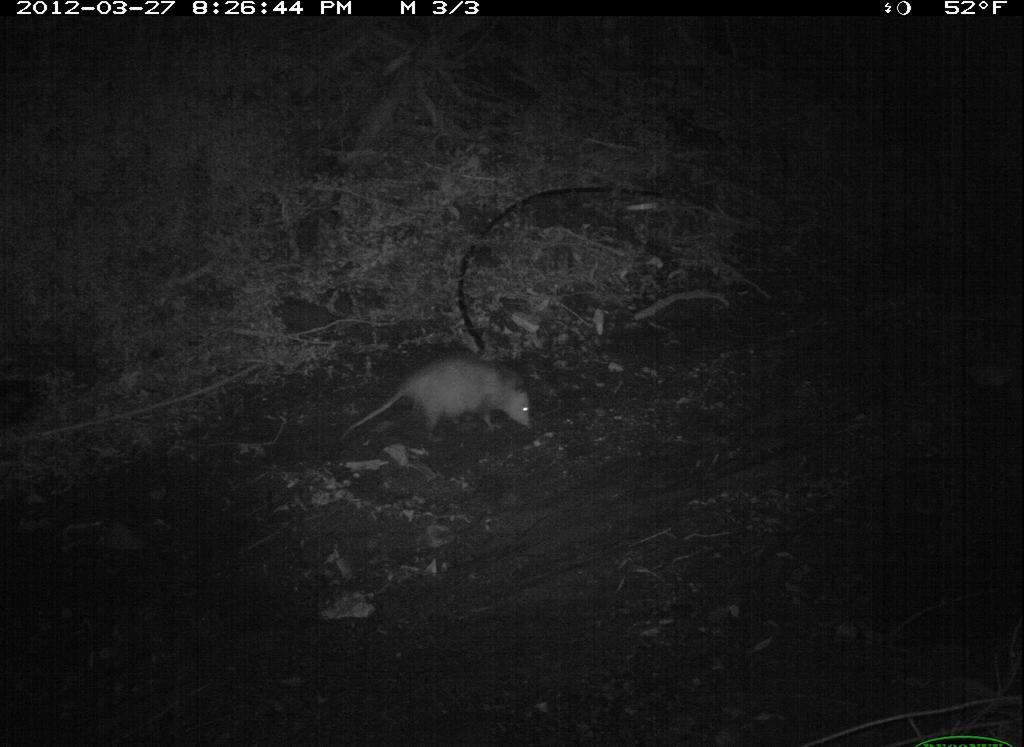opossum: (329, 336, 548, 457)
